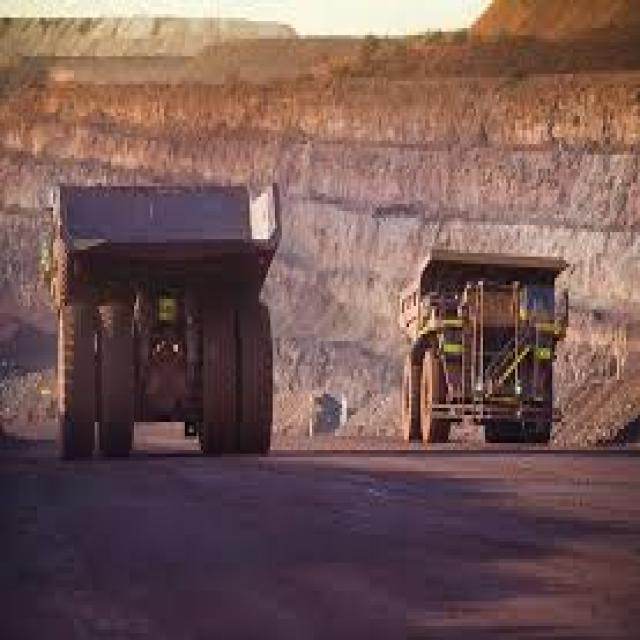dump_truck: (37, 158, 293, 475), (383, 229, 578, 478)
